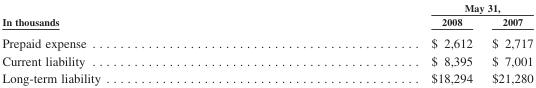table: (1, 1, 532, 85)
table column: (1, 1, 265, 85), (265, 1, 481, 85), (481, 1, 532, 85)
table column header: (1, 1, 532, 31)
table row: (1, 31, 532, 51), (1, 51, 532, 69), (1, 14, 532, 31), (1, 69, 532, 85), (1, 1, 532, 14)
table spanning cell: (1, 1, 265, 31), (265, 1, 532, 14)
